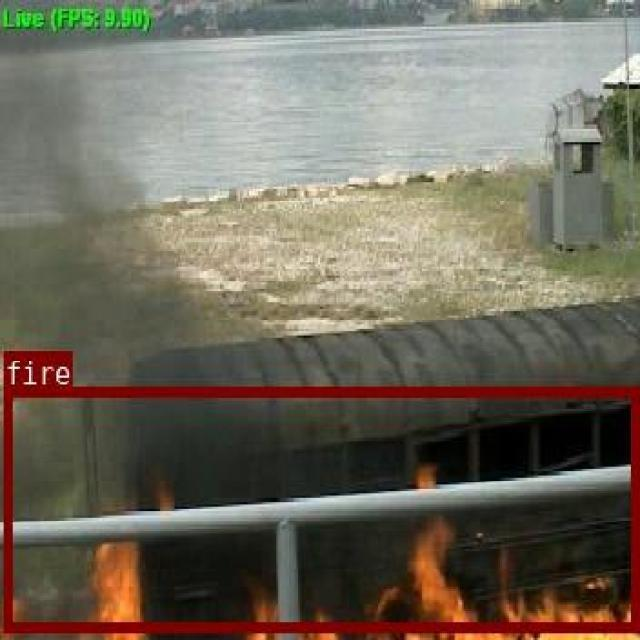fire: (2, 386, 636, 629)
